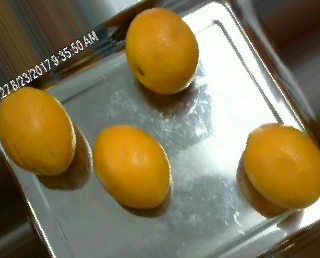Orange: (1, 87, 76, 174), (244, 124, 319, 211), (125, 6, 199, 94), (93, 124, 170, 207)
